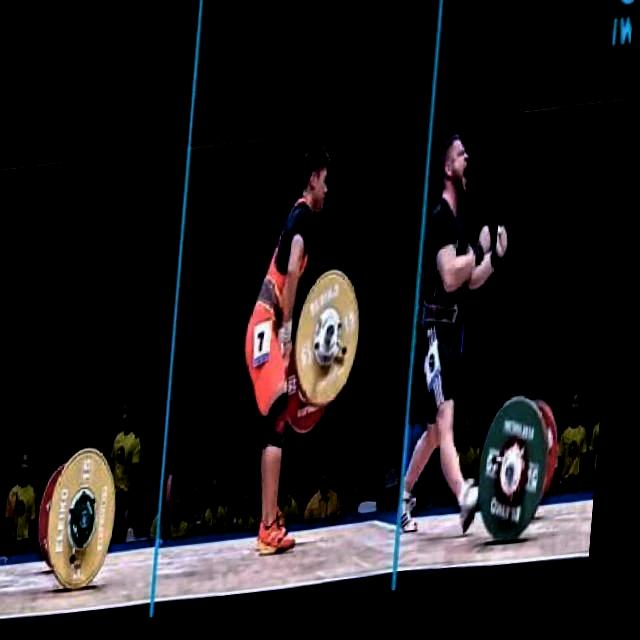barbell: (480, 402, 564, 562), (49, 445, 133, 600), (295, 272, 370, 422)
